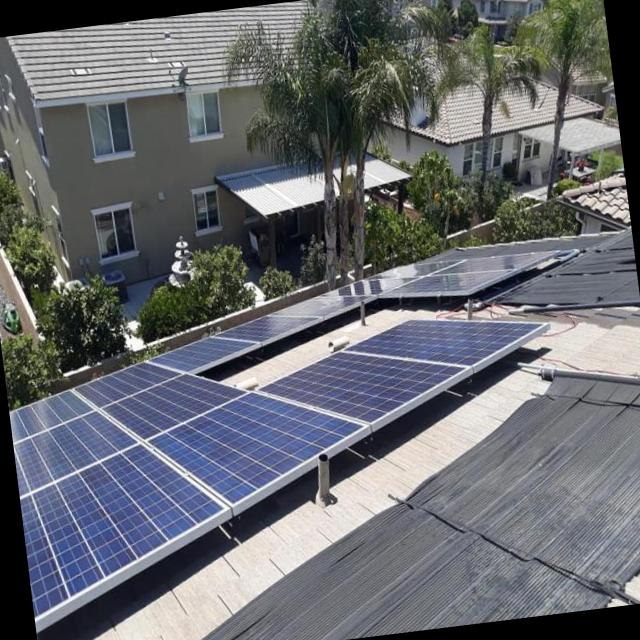no faulty: (20, 443, 226, 615), (152, 389, 360, 502), (260, 355, 462, 422), (18, 415, 130, 496), (106, 377, 240, 436), (349, 323, 537, 364), (78, 362, 177, 405), (11, 391, 91, 439), (151, 338, 252, 371), (387, 272, 512, 293), (435, 251, 551, 273), (220, 316, 314, 342), (278, 296, 361, 314), (327, 280, 410, 295)
